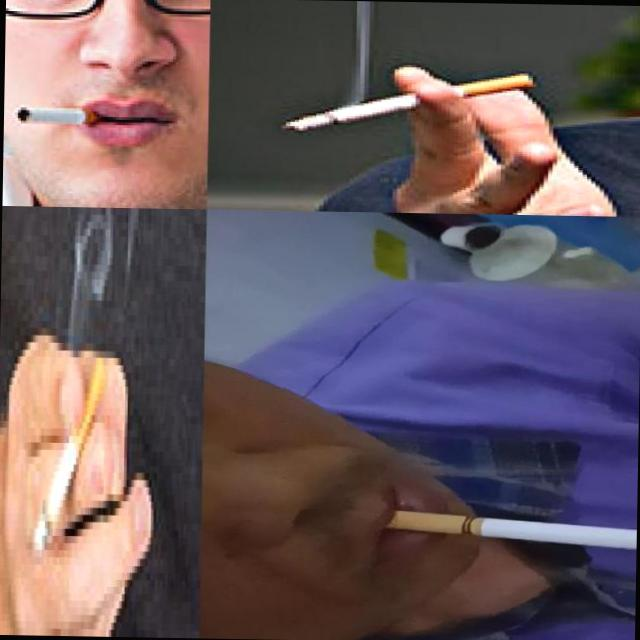cigarette: (280, 68, 537, 136), (33, 354, 106, 554), (387, 509, 636, 556), (12, 102, 94, 125)
